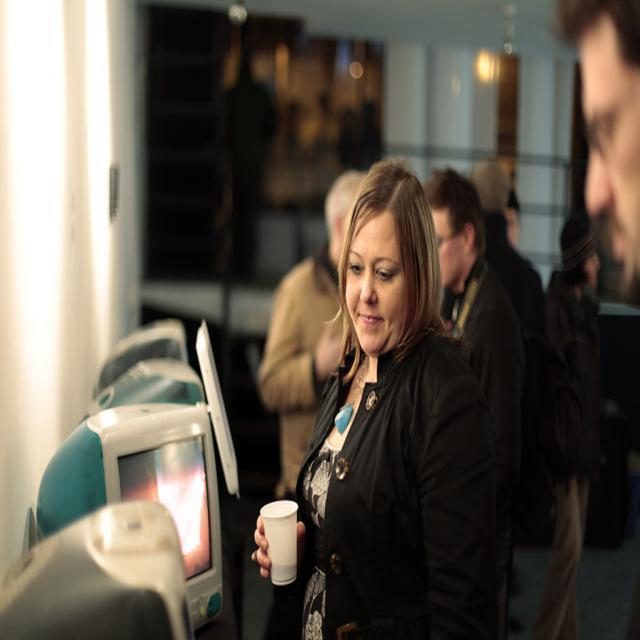closed-mouth: (360, 313, 385, 323)
